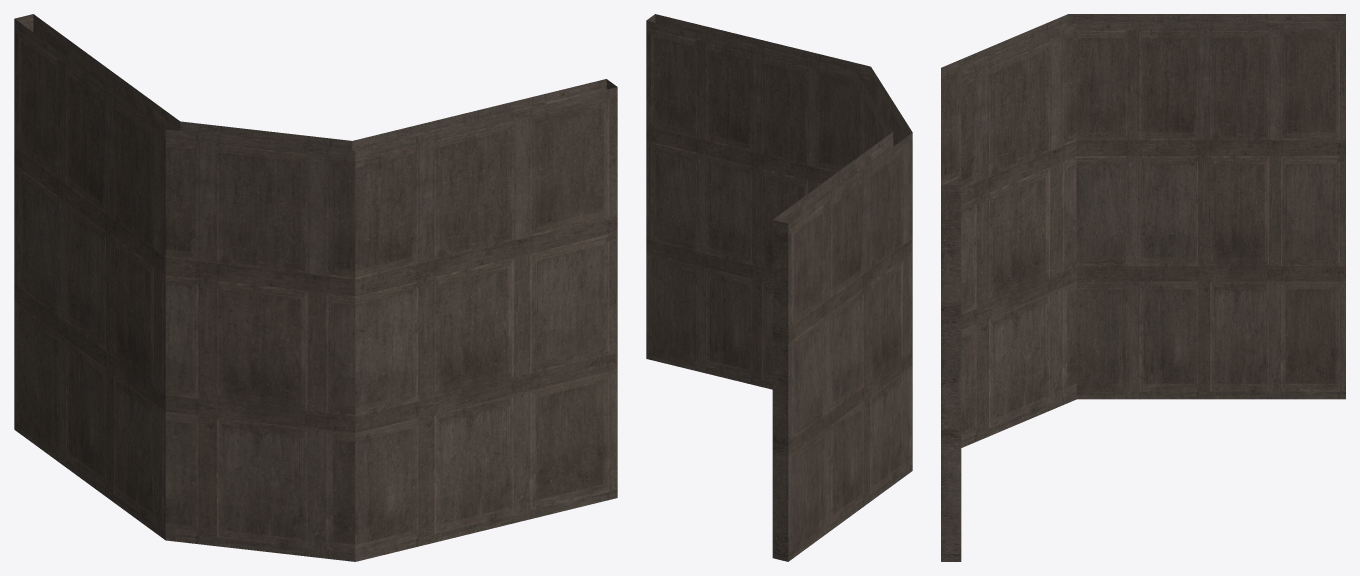
Rendered from BarBaseCorner.fbx.
3 renders of one model, left to right at view 1: azimuth 30°, elevation 25°; view 2: azimuth 150°, elevation 25°; view 3: azimuth 270°, elevation 25°, orthographic. The views are drawn at different scales.
Visible parts, largest first — view 1: BarBaseCorner; view 2: BarBaseCorner; view 3: BarBaseCorner.
Part boxes in pixels (x1,y1,x2,y2): BarBaseCorner: (14, 14, 617, 561); BarBaseCorner: (646, 14, 912, 561); BarBaseCorner: (941, 14, 1345, 561).
Bounding box in the file's own units: 100 × 103 × 100.
